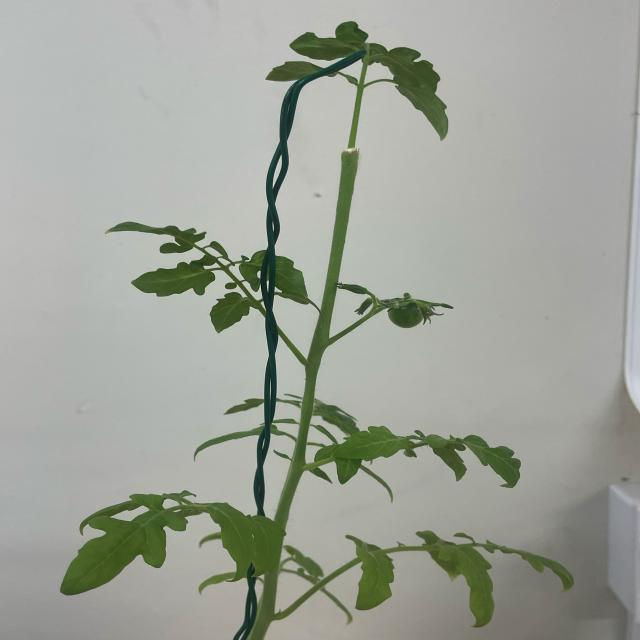level 1: (386, 298, 428, 330)
